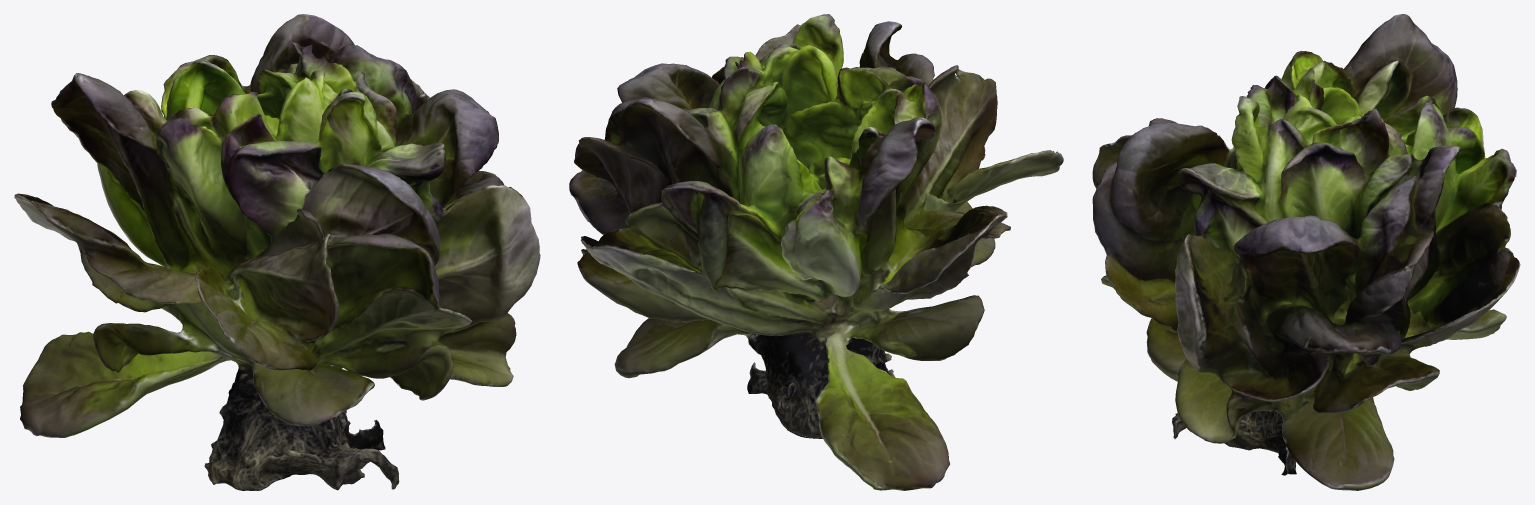
Rendered from lettuce.glb.
3 renders of one model, left to right at view 1: azimuth 30°, elevation 25°; view 2: azimuth 150°, elevation 25°; view 3: azimuth 270°, elevation 25°, orthographic. The views are drawn at different scales.
Visible parts, largest first — view 1: 1127_low_0; view 2: 1127_low_0; view 3: 1127_low_0.
Part boxes in pixels (x1,y1,x2,y2): 1127_low_0: (14, 14, 540, 490); 1127_low_0: (569, 14, 1063, 490); 1127_low_0: (1092, 14, 1520, 490).
Size of the model in its own units: 0.2184 by 0.1806 by 0.1945.
Materials: 1 (1 with a texture image).
